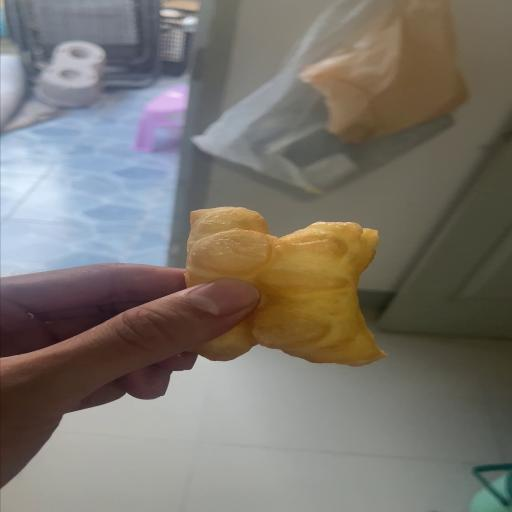street_golden_good: (184, 208, 386, 365)
